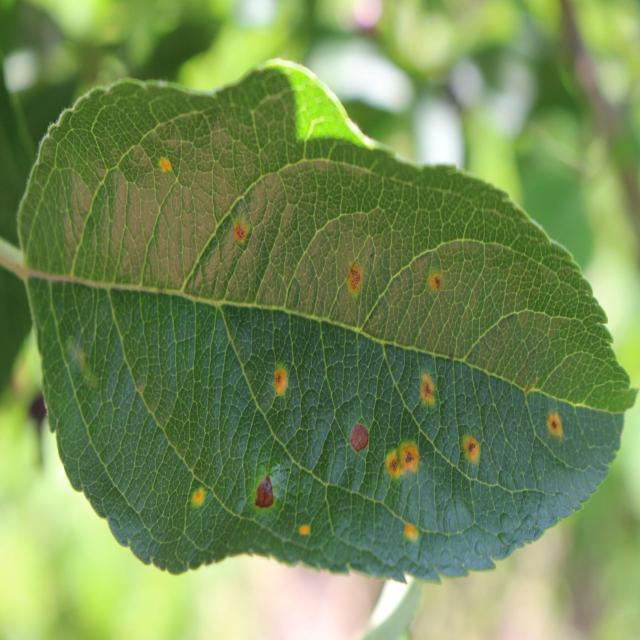Black Rot: (248, 466, 281, 524), (348, 421, 375, 464)
Rust: (259, 341, 296, 409), (338, 254, 375, 305), (401, 432, 426, 498), (420, 253, 451, 299), (543, 401, 568, 452), (226, 207, 252, 255), (184, 472, 210, 518), (414, 367, 443, 408), (142, 146, 174, 182), (454, 433, 484, 470), (289, 513, 317, 550), (384, 442, 404, 488), (402, 513, 426, 547)
